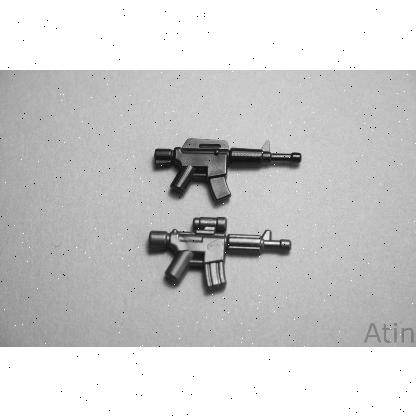gun: (140, 215, 300, 297), (150, 134, 302, 204)
